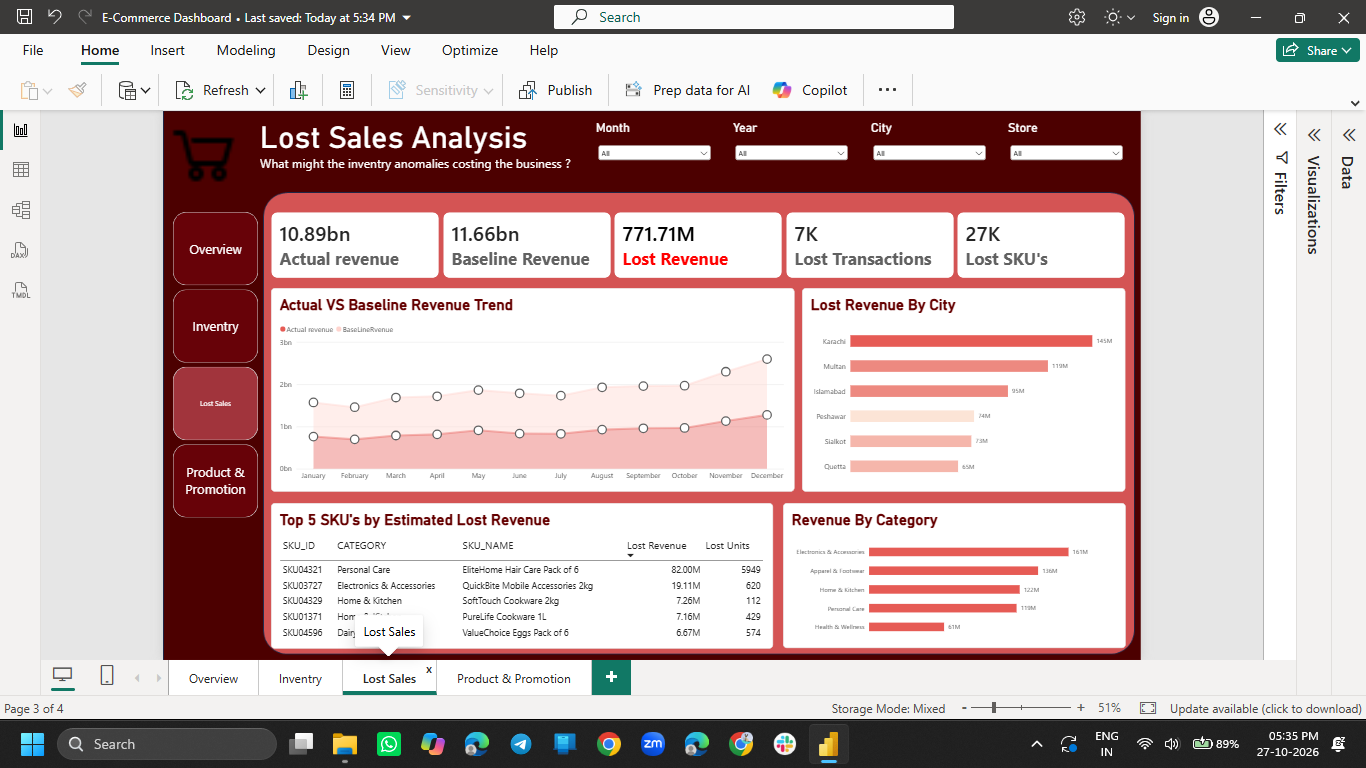

What the dashboard file says about the page in this screenshot:
{"tool":"powerbi","page":{"name":"Lost Sales","canvas":[1920,1080],"ordinal":2},"visuals":[{"type":"image","box":[0,2.5,1920,1077.5],"z":0,"group":"g1"},{"type":"cardVisual","title":"Total Sales","fields":{"Data":["SALES_TRANSACTIONS.Total Sales"]},"box":[212.5,200,330,130],"z":1000,"group":"g1"},{"type":"cardVisual","title":"Lost Sales","fields":{"Data":["SALES_TRANSACTIONS.Lost Revenue"]},"box":[886.2,200,330,130],"z":2000,"group":"g1"},{"type":"cardVisual","fields":{"Data":["SALES_TRANSACTIONS_CLEAN.BaseLineRvenue"]},"box":[549.4,200,330,130],"z":3000,"group":"g1"},{"type":"cardVisual","fields":{"Data":["SALES_TRANSACTIONS_CLEAN.Count"]},"box":[1223.1,200,330,130],"z":4000,"group":"g1"},{"type":"cardVisual","title":"Total Units Sold","fields":{"Data":["SALES_TRANSACTIONS_CLEAN.Lost SKU's"]},"box":[1560,200,330,130],"z":5000,"group":"g1"},{"type":"stackedAreaChart","title":"Actual VS Baseline Revenue Trend","fields":{"Category":["DimDate.Date.Variation.Date Hierarchy.Month"],"Y":["SALES_TRANSACTIONS.Actual revenue","SALES_TRANSACTIONS_CLEAN.BaseLineRvenue"]},"box":[212.5,350,1027.5,400],"z":6000,"group":"g1"},{"type":"barChart","title":"Lost Revenue By City","fields":{"Category":["STORE_MASTER.CITY"],"Y":["SALES_TRANSACTIONS.Lost Revenue"]},"box":[1255,350,635,400],"z":7000,"group":"g1"},{"type":"barChart","title":"Revenue By Category","fields":{"Category":["DimSKU.CATEGORY"],"Y":["SALES_TRANSACTIONS.Lost Revenue"]},"box":[1217.5,772.5,672.5,285],"z":8000,"group":"g1"},{"type":"shape","title":"Lost Sales Analysis","box":[190.5,19.2,659.8,119.8],"z":9000,"group":"g1"},{"type":"slicer","title":"Month","fields":{"Values":["DimDate.Month"]},"box":[850,22.5,230,107.5],"z":10000,"group":"g1"},{"type":"slicer","title":"Year","fields":{"Values":["DimDate.Year"]},"box":[1120,22.5,230,107.5],"z":11000,"group":"g1"},{"type":"slicer","title":"City","fields":{"Values":["STORE_MASTER.CITY"]},"box":[1390,22.5,230,107.5],"z":12000,"group":"g1"},{"type":"slicer","title":"Store","fields":{"Values":["STORE_MASTER.STORE_TYPE"]},"box":[1660,22.5,230,107.5],"z":13000,"group":"g1"},{"type":"image","box":[0,2.5,160,165],"z":14000,"group":"g1"},{"type":"pageNavigator","box":[20,200,167.5,602.5],"z":15000,"group":"g1"},{"type":"tableEx","title":"Top 5 SKU''s by Estimated Lost Revenue","fields":{"Values":["DimSKU.SKU_ID","DimSKU.CATEGORY","DimSKU.SKU_NAME","SALES_TRANSACTIONS.Lost Revenue","SALES_TRANSACTIONS_CLEAN.Lost SKU's"]},"box":[212,772,986,286],"z":16000,"group":"g1"},{"type":"group","id":"g1","title":"Group 1","box":[0,2.5,1920,1077.5],"z":16002}]}

Visuals, with their boxes on the page's 1920x1080 design canvas (x1, y1, x2, y2). These are canvas units, not pixel positions in the 1366x768 screenshot, which may show the page scaled, cropped or inside an application window:
image: 0, 2, 1920, 1080
"Total Sales" cardVisual: 212, 200, 542, 330
"Lost Sales" cardVisual: 886, 200, 1216, 330
cardVisual - SALES_TRANSACTIONS_CLEAN.BaseLineRvenue: 549, 200, 879, 330
cardVisual - SALES_TRANSACTIONS_CLEAN.Count: 1223, 200, 1553, 330
"Total Units Sold" cardVisual: 1560, 200, 1890, 330
"Actual VS Baseline Revenue Trend" stackedAreaChart: 212, 350, 1240, 750
"Lost Revenue By City" barChart: 1255, 350, 1890, 750
"Revenue By Category" barChart: 1218, 772, 1890, 1058
"Lost Sales Analysis" shape: 190, 19, 850, 139
"Month" slicer: 850, 22, 1080, 130
"Year" slicer: 1120, 22, 1350, 130
"City" slicer: 1390, 22, 1620, 130
"Store" slicer: 1660, 22, 1890, 130
image: 0, 2, 160, 168
pageNavigator: 20, 200, 188, 802
"Top 5 SKU''s by Estimated Lost Revenue" tableEx: 212, 772, 1198, 1058
"Group 1" group: 0, 2, 1920, 1080
